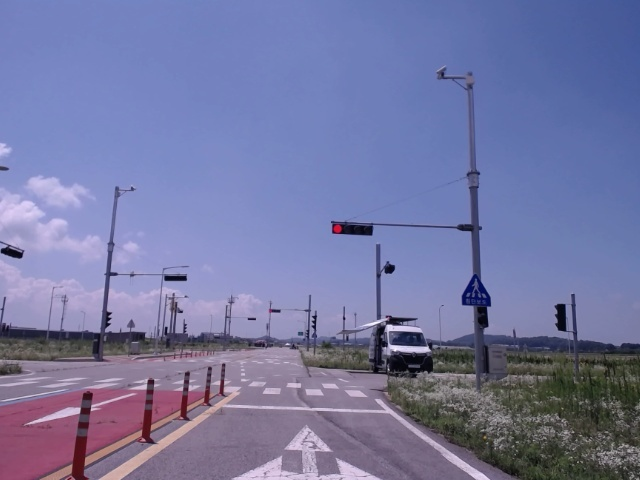red_4: (332, 224, 372, 236)
